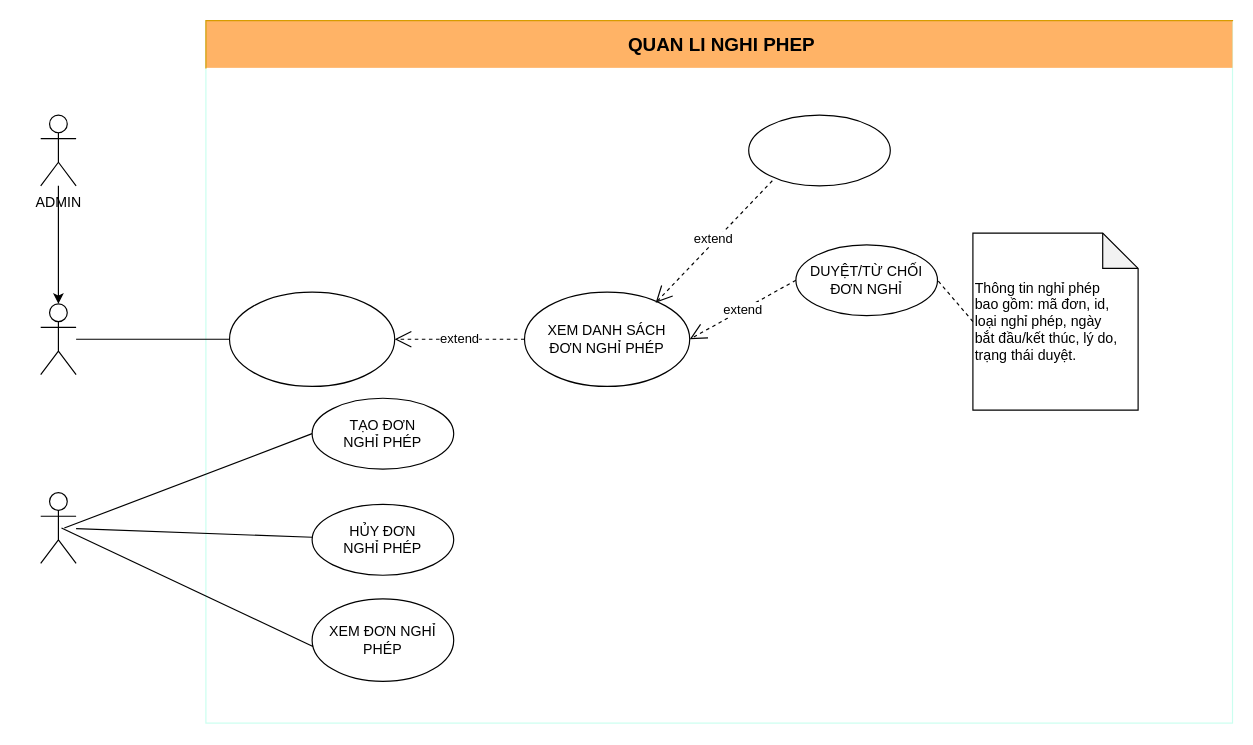
This 1253x745 diagram has some shape labels left out. Each missing label, with the centre of its shape:
"MANAGER" goes at [58,339].
"NHAN VIEN" goes at [58,527].
"QUẢN LÝ THÔNG TIN NGHỈ PHÉP" goes at [311,338].
"TÌM KIẾM ĐƠN NGHỈ" goes at [819,150].
